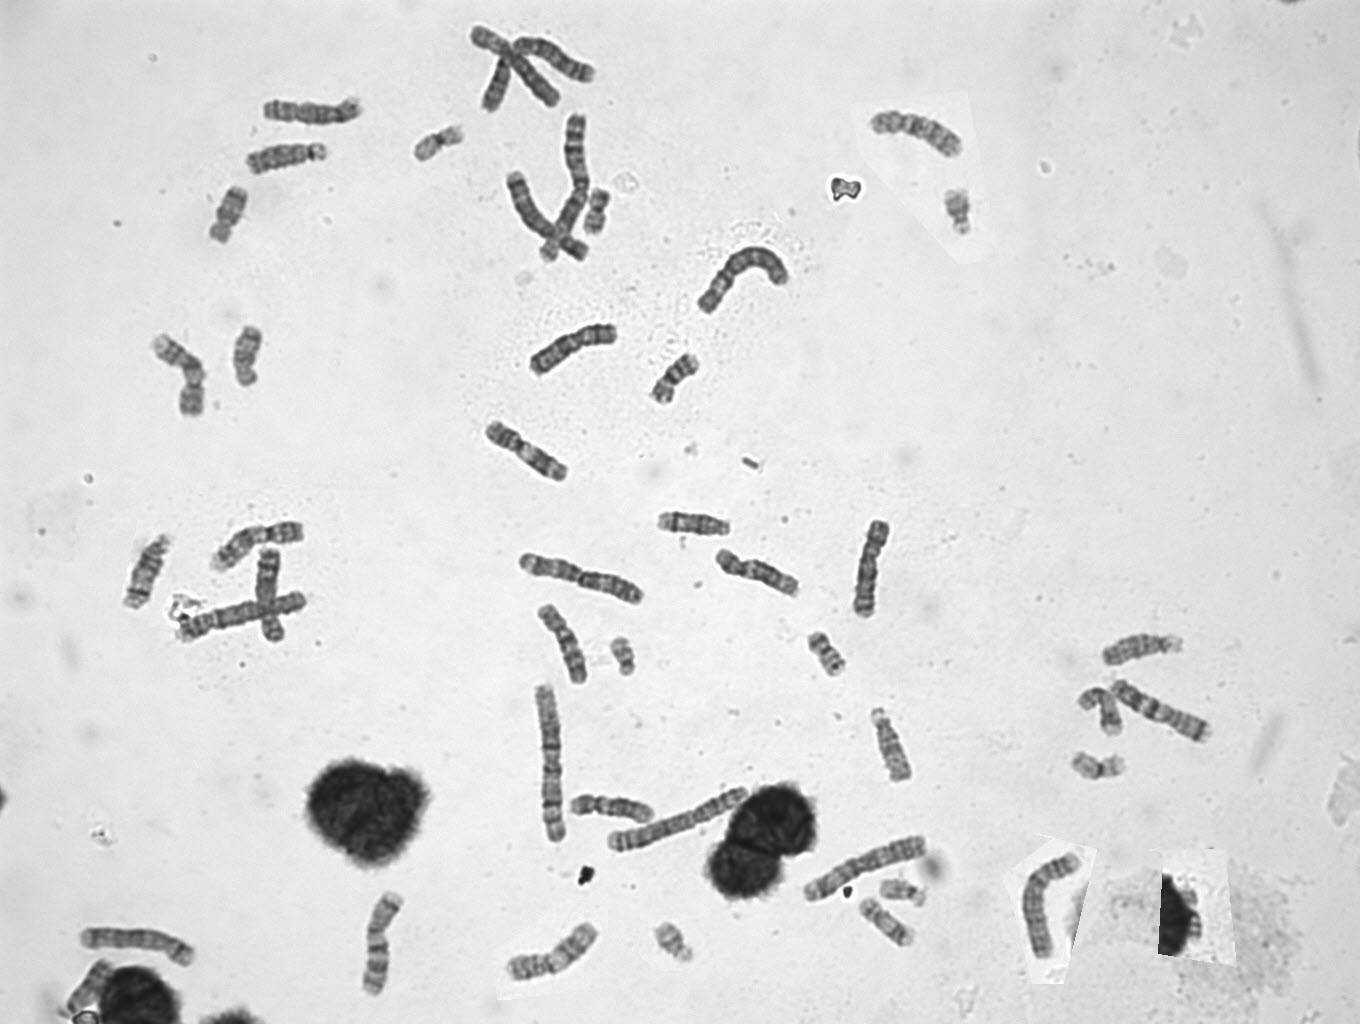chromosomes: (595, 781, 753, 865), (71, 891, 219, 980), (786, 828, 932, 905), (536, 103, 600, 268), (171, 580, 317, 650), (1107, 675, 1222, 763), (502, 162, 597, 268), (510, 542, 653, 610), (476, 35, 603, 112), (461, 26, 566, 116), (1020, 849, 1088, 973), (689, 242, 789, 324), (133, 328, 209, 432), (522, 675, 568, 849), (500, 918, 609, 987), (348, 893, 414, 1004), (861, 106, 971, 171), (202, 513, 307, 577), (478, 417, 571, 487), (707, 546, 813, 607), (522, 321, 629, 380), (845, 513, 894, 625), (121, 532, 180, 622), (531, 605, 589, 691), (51, 953, 123, 1022), (865, 696, 917, 790), (851, 893, 919, 963), (1096, 623, 1194, 670), (252, 545, 294, 651), (642, 351, 710, 415), (255, 93, 367, 131), (564, 788, 665, 830), (1066, 675, 1127, 745), (225, 322, 274, 399), (194, 183, 252, 246), (234, 139, 328, 177), (650, 501, 736, 543), (403, 117, 471, 168), (933, 181, 983, 248), (1069, 738, 1133, 787), (803, 624, 850, 682), (654, 918, 701, 972), (876, 874, 936, 915), (1182, 878, 1207, 947), (581, 185, 613, 236), (606, 638, 638, 680)
